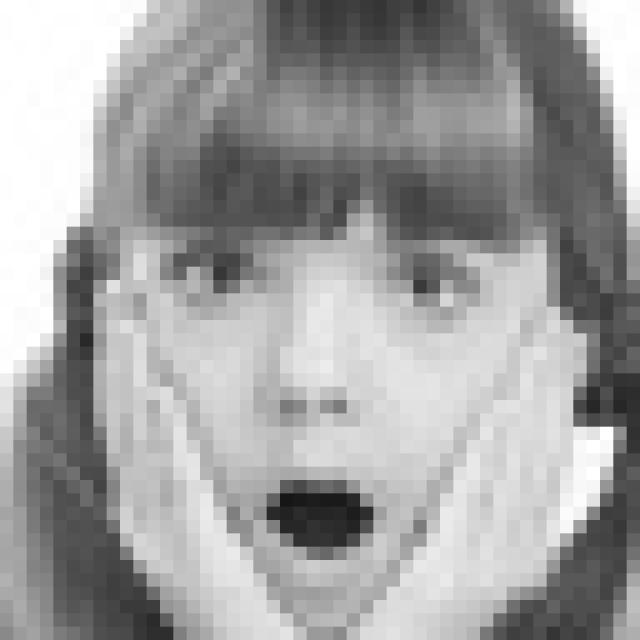surprise: (153, 202, 520, 581)
